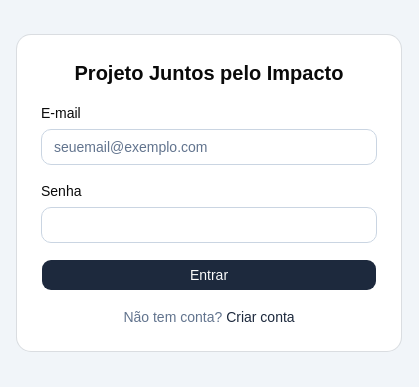
Test case: SignInPage › shows 401 error as credential feedback
Type "i@b.com" into the field labelled "E-mail". click: (209, 147)
box: x1=41 y1=129 x2=377 y2=165
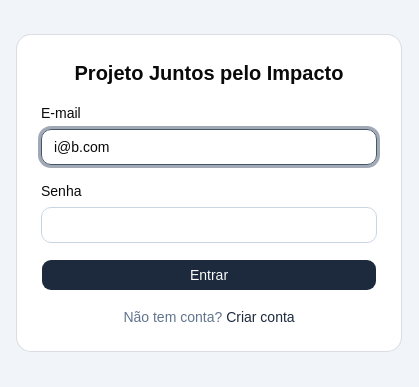
Type "errada" into the password field labelled "Senha". click: (209, 225)
box: x1=41 y1=207 x2=377 y2=243
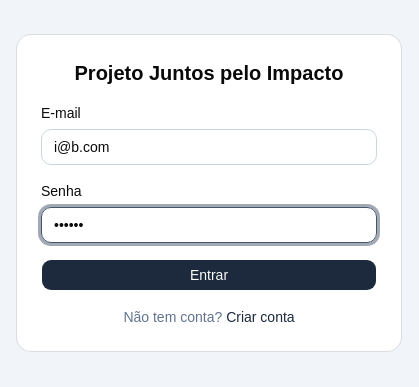
Click the button "Entrar". click: (209, 275)
box: x1=41 y1=259 x2=377 y2=291
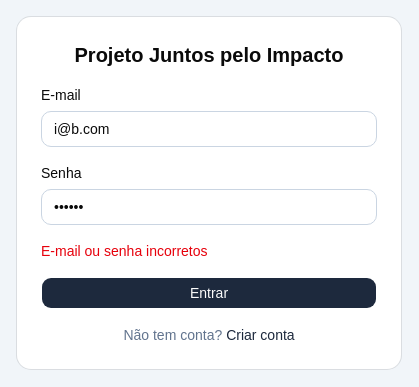
Expected: the text "E-mail ou senha incorretos" is shown, x1=41 y1=243 x2=208 y2=259
